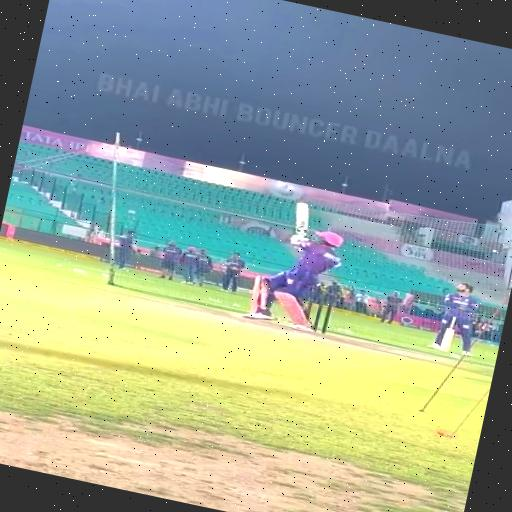Cricket bat: (294, 201, 308, 236)
